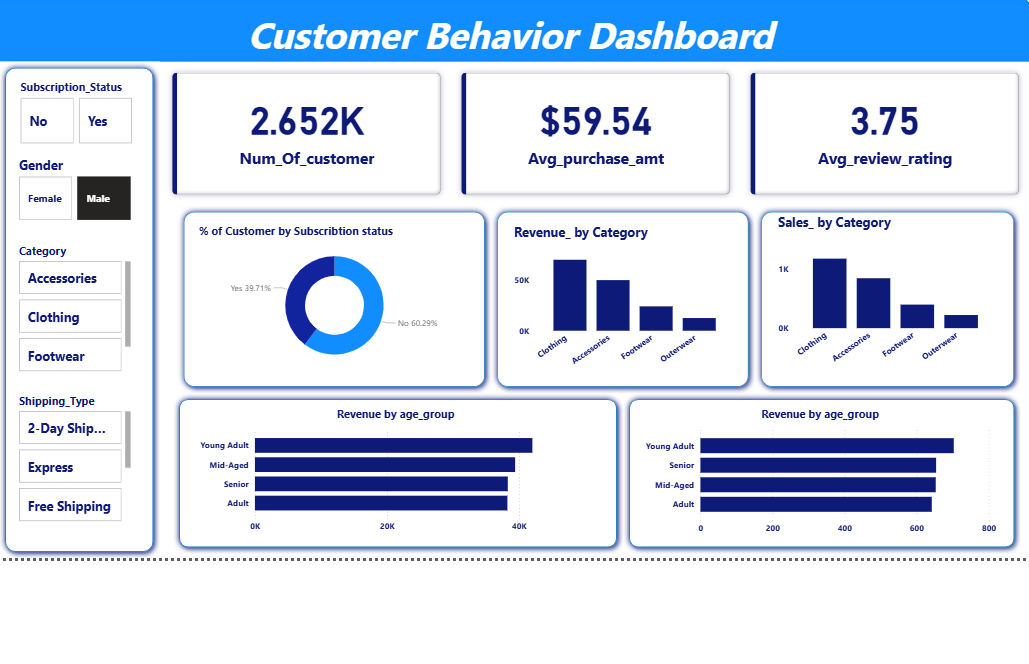

The dashboard page shown, as its layout file describes it:
{"tool":"powerbi","page":{"name":"Page 1","canvas":[1500,820],"ordinal":0},"visuals":[{"type":"cardVisual","fields":{"Data":["public customer.Num_Of_cust","public customer.avg_purch_amt","public customer.avg_rating"]},"box":[235.4,98.1,1263.9,209.2],"z":0},{"type":"shape","box":[0,0,1499.3,98.1],"z":1000},{"type":"textbox","box":[196.1,17.4,1094,80.6],"z":2000},{"type":"shape","box":[259.3,307.3,455.5,272.4],"z":3000},{"type":"donutChart","title":"% of Customer by Subscribtion status","fields":{"Category":["public customer.Subscription_Status"],"Y":["CountNonNull(public customer.Customer_ID)"]},"box":[285.5,333.4,403.2,215.7],"z":4000},{"type":"shape","box":[715.3,307.8,383.1,272.4],"z":5000},{"type":"shape","box":[1098.4,307.8,385.3,272.4],"z":6000},{"type":"clusteredColumnChart","title":"Revenue_ by Category","fields":{"Y":["Sum(public customer.Purchase_Amount_(USD))"],"Category":["public customer.Category"]},"box":[744.1,334.4,330,221.5],"z":7000},{"type":"clusteredColumnChart","title":"Sales_ by Category","fields":{"Category":["public customer.Category"],"Y":["CountNonNull(public customer.Customer_ID)"]},"box":[1127.2,318.9,327.8,237],"z":8000},{"type":"shape","box":[0,98.1,233.2,721.3],"z":9000},{"type":"advancedSlicerVisual","fields":{"Values":["public customer.Subscription_Status"]},"box":[26.2,124.2,172.2,98.1],"z":10000},{"type":"advancedSlicerVisual","fields":{"Values":["public customer.Gender"]},"box":[24,235.4,172.2,98.1],"z":11000},{"type":"advancedSlicerVisual","fields":{"Values":["public customer.Category"]},"box":[24,361.7,172.2,193.9],"z":12000},{"type":"advancedSlicerVisual","fields":{"Values":["public customer.Shipping_Type"]},"box":[24,579.7,172.2,193.9],"z":13000},{"type":"shape","box":[252.8,579.7,653.8,233.2],"z":14000},{"type":"clusteredBarChart","title":"Revenue by age_group","fields":{"Category":["public customer.age_group"],"Y":["Sum(public customer.Purchase_Amount_(USD))"]},"box":[285.5,599.3,581.8,191.8],"z":15000},{"type":"shape","box":[906.5,579.7,577.5,233.2],"z":16000},{"type":"clusteredBarChart","title":"Revenue by age_group","fields":{"Category":["public customer.age_group"],"Y":["CountNonNull(public customer.Customer_ID)"]},"box":[932.7,599.3,520.8,193.9],"z":17000}]}

Visuals, with their boxes in screenshot pixels (x1, y1, x2, y2):
cardVisual - public customer.Num_Of_cust x public customer.avg_purch_amt: (left=152, top=58, right=1028, bottom=205)
shape: (left=0, top=0, right=1028, bottom=58)
textbox: (left=124, top=1, right=891, bottom=58)
shape: (left=168, top=205, right=488, bottom=396)
"% of Customer by Subscribtion status" donutChart: (left=187, top=223, right=470, bottom=374)
shape: (left=488, top=205, right=757, bottom=396)
shape: (left=757, top=205, right=1027, bottom=396)
"Revenue_ by Category" clusteredColumnChart: (left=508, top=224, right=740, bottom=379)
"Sales_ by Category" clusteredColumnChart: (left=777, top=213, right=1007, bottom=379)
shape: (left=0, top=58, right=150, bottom=564)
advancedSlicerVisual - public customer.Subscription_Status: (left=5, top=76, right=126, bottom=145)
advancedSlicerVisual - public customer.Gender: (left=3, top=154, right=124, bottom=223)
advancedSlicerVisual - public customer.Category: (left=3, top=243, right=124, bottom=379)
advancedSlicerVisual - public customer.Shipping_Type: (left=3, top=396, right=124, bottom=532)
shape: (left=164, top=396, right=622, bottom=559)
"Revenue by age_group" clusteredBarChart: (left=187, top=410, right=595, bottom=544)
shape: (left=622, top=396, right=1027, bottom=559)
"Revenue by age_group" clusteredBarChart: (left=641, top=410, right=1006, bottom=546)
